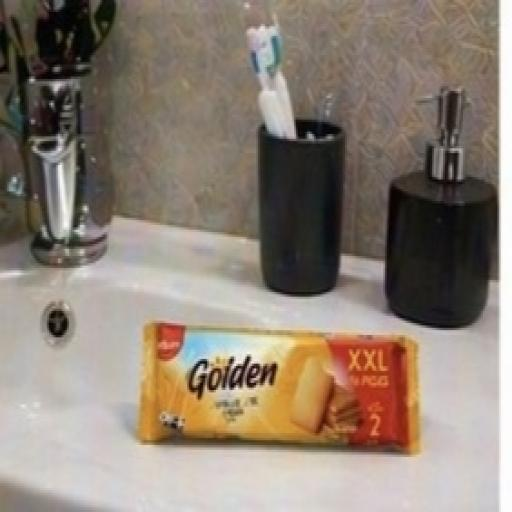golden: (99, 264, 450, 480)
